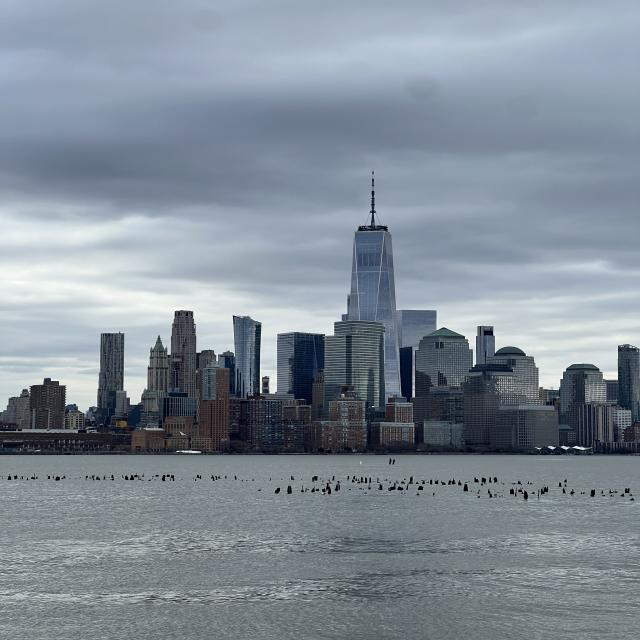WTC: (348, 168, 398, 320)
